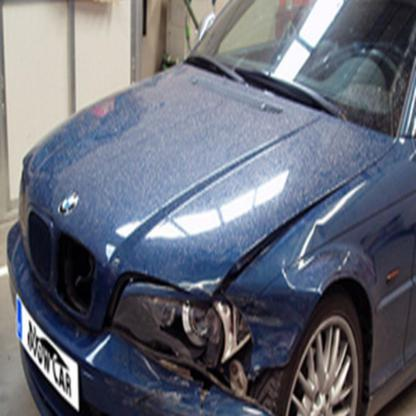front_bumper: (6, 221, 270, 414)
hood: (22, 64, 397, 329)
